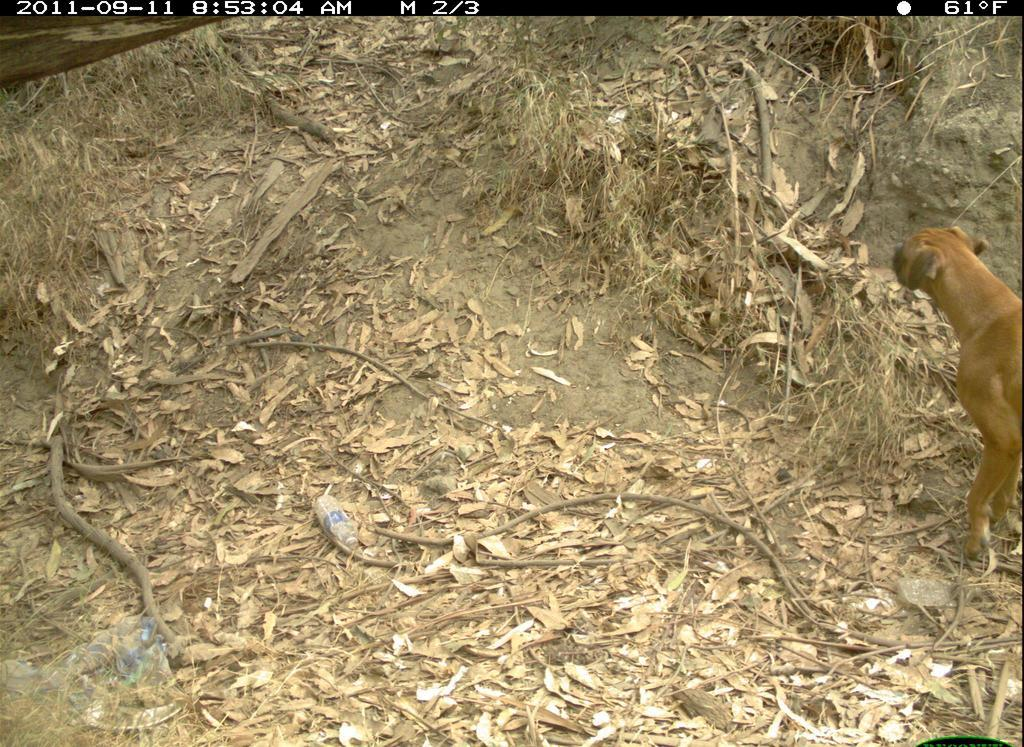dog: (875, 218, 1022, 574)
